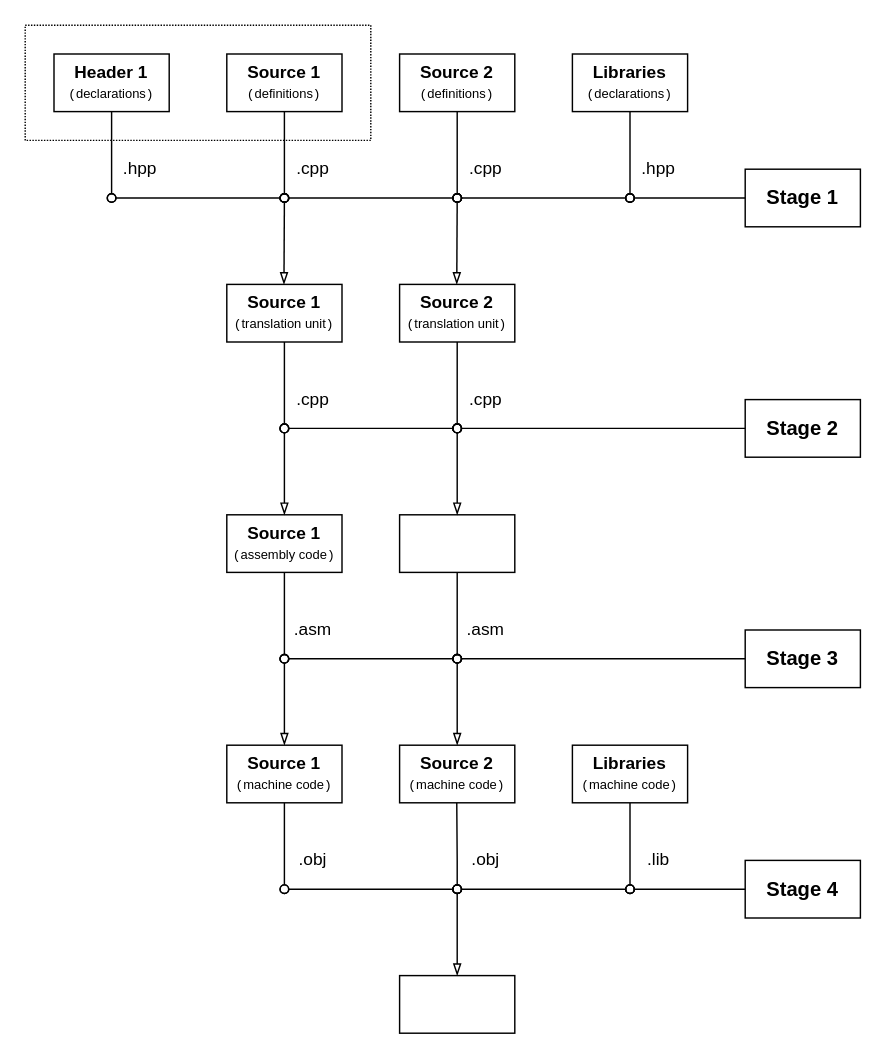
The diagram is 886 pixels wide and 1058 high, and some of its shapes have lost their labels. The box of each missing label's shape, as (x1, y1, x2, y2) in pixels:
Executable: (398, 974, 515, 1033)
Source 2 ( assembly code ): (398, 513, 515, 572)
